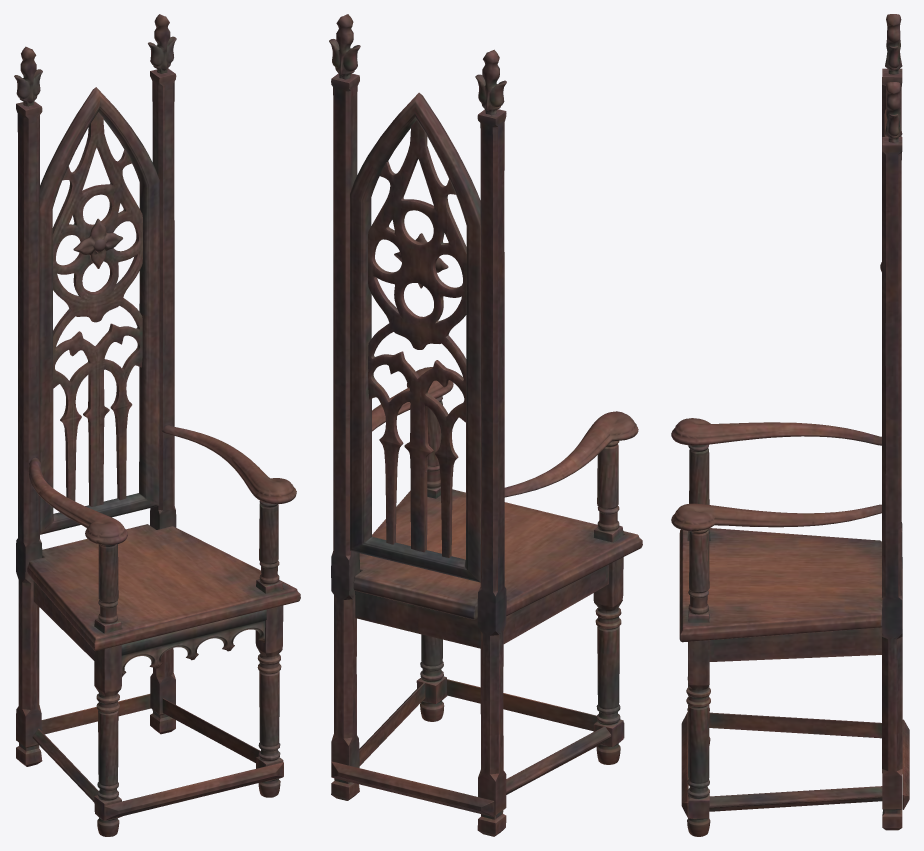
Rendered from WoodenChair_01.glb.
3 renders of one model, left to right at view 1: azimuth 30°, elevation 25°; view 2: azimuth 150°, elevation 25°; view 3: azimuth 270°, elevation 25°, orthographic. The views are drawn at different scales.
Parts seen in each view (by area): view 1: WoodenChair_01; view 2: WoodenChair_01; view 3: WoodenChair_01.
Boxes of the visible parts, left/top/right/bottom form: WoodenChair_01: left=14, top=14, right=300, bottom=836; WoodenChair_01: left=329, top=14, right=642, bottom=836; WoodenChair_01: left=671, top=14, right=909, bottom=836.
Size of the model in its own units: 0.6881 by 2.27 by 0.6584.
Materials: 1 (1 with a texture image).
